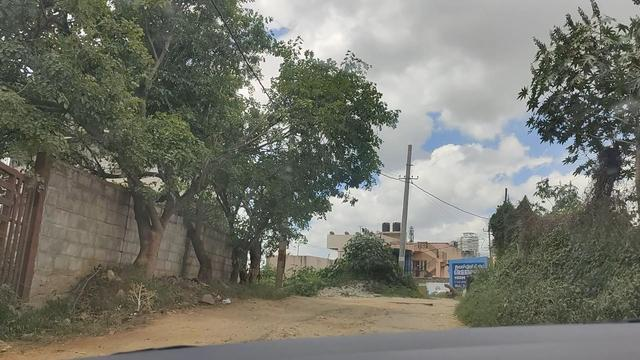RoadDamages: (267, 297, 408, 336)
